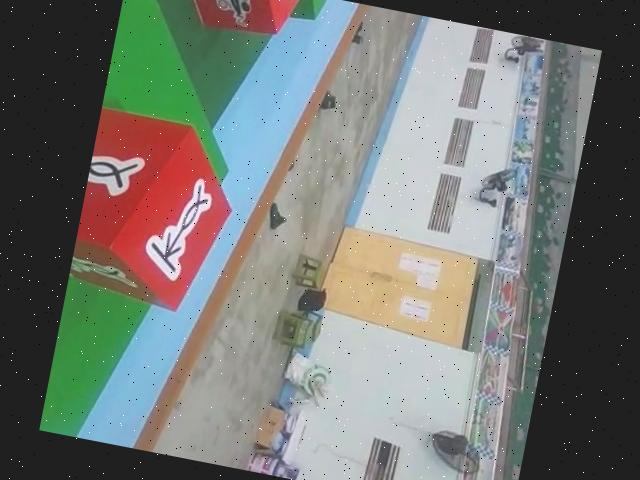R1: (154, 0, 309, 43)
R2 Real: (66, 103, 251, 322)
